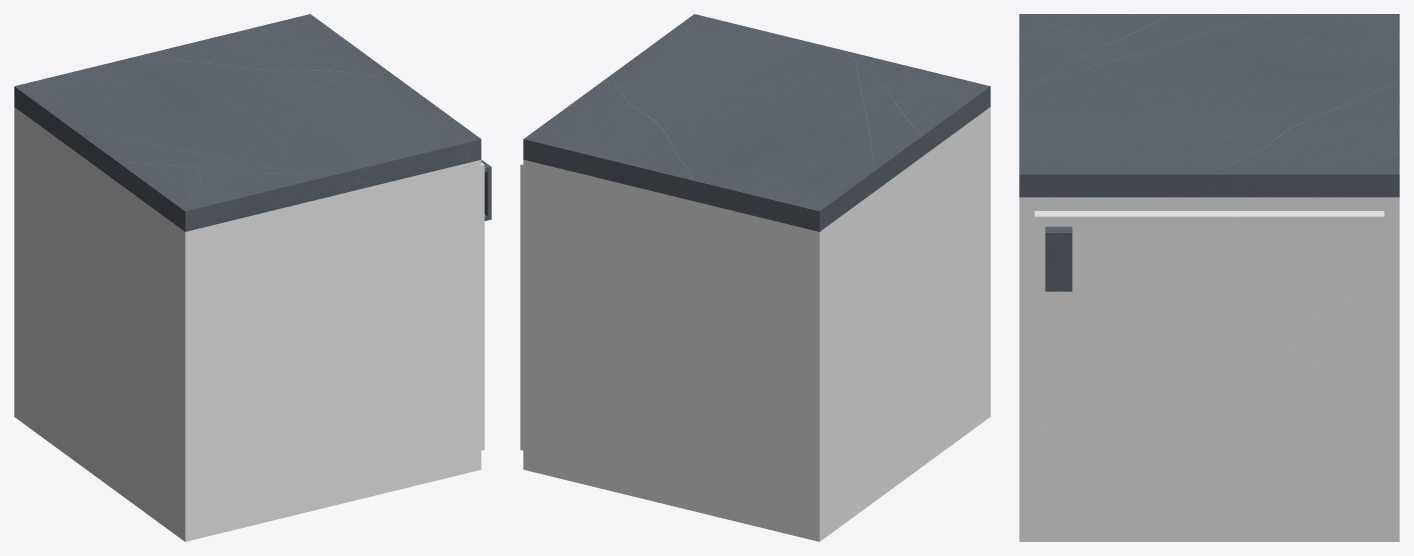
File: mdl_Kitchen_basic01.fbx
The picture shows the model from 3 angles, left to right: view 1: azimuth 30°, elevation 25°; view 2: azimuth 150°, elevation 25°; view 3: azimuth 270°, elevation 25°; orthographic projection. The views are drawn at different scales.
Visible parts, largest first — view 1: Cube.001; view 2: Cube.001; view 3: Cube.001.
Boxes of the visible parts, x1=… form: Cube.001: x1=14, y1=14, x2=491, y2=541; Cube.001: x1=520, y1=14, x2=990, y2=541; Cube.001: x1=1019, y1=14, x2=1399, y2=541.
Bounding box in the file's own units: 641 × 636 × 597.
